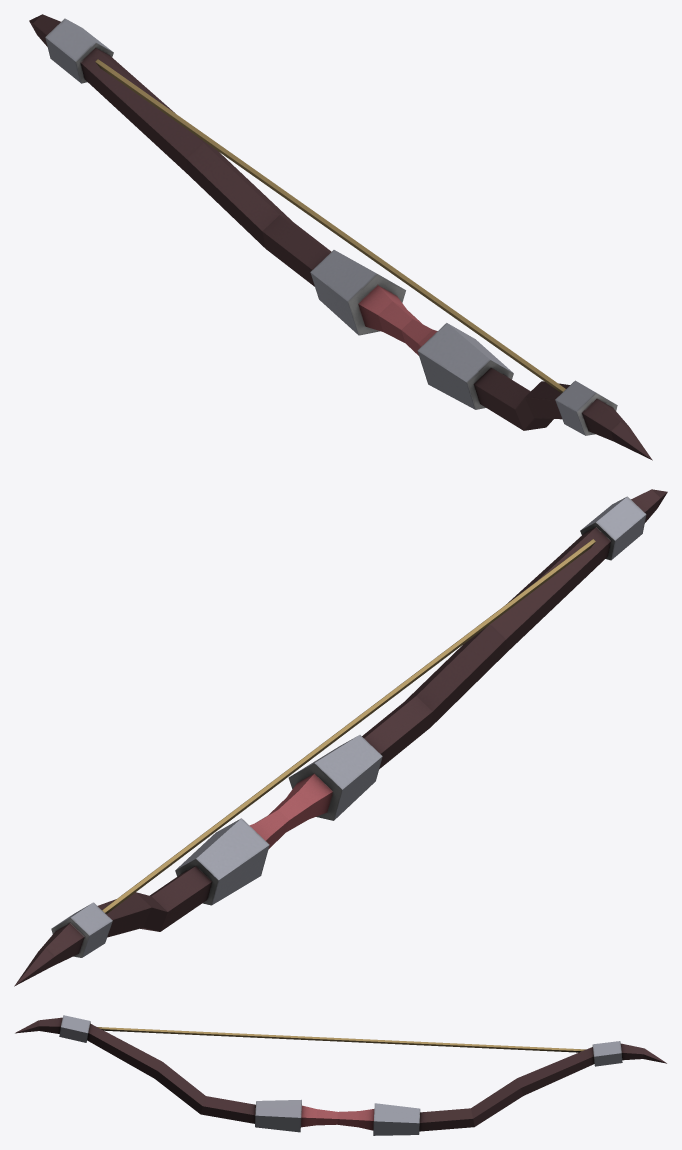
File: bow.glb
3 renders of one model, top to bottom at view 1: azimuth 30°, elevation 25°; view 2: azimuth 150°, elevation 25°; view 3: azimuth 270°, elevation 25°, orthographic. The views are drawn at different scales.
Visible parts, largest first — view 1: Bow; view 2: Bow; view 3: Bow.
Boxes of the visible parts, x1,y1,x2,y2 form: Bow: (29, 14, 652, 460); Bow: (14, 489, 667, 986); Bow: (15, 1015, 666, 1135).
Size of the model in its own units: 0.1966 by 0.2533 by 1.59.
Materials: 1 (1 with a texture image).
